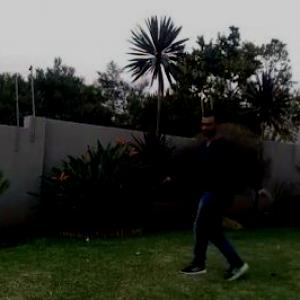land: (154, 95, 282, 299)
